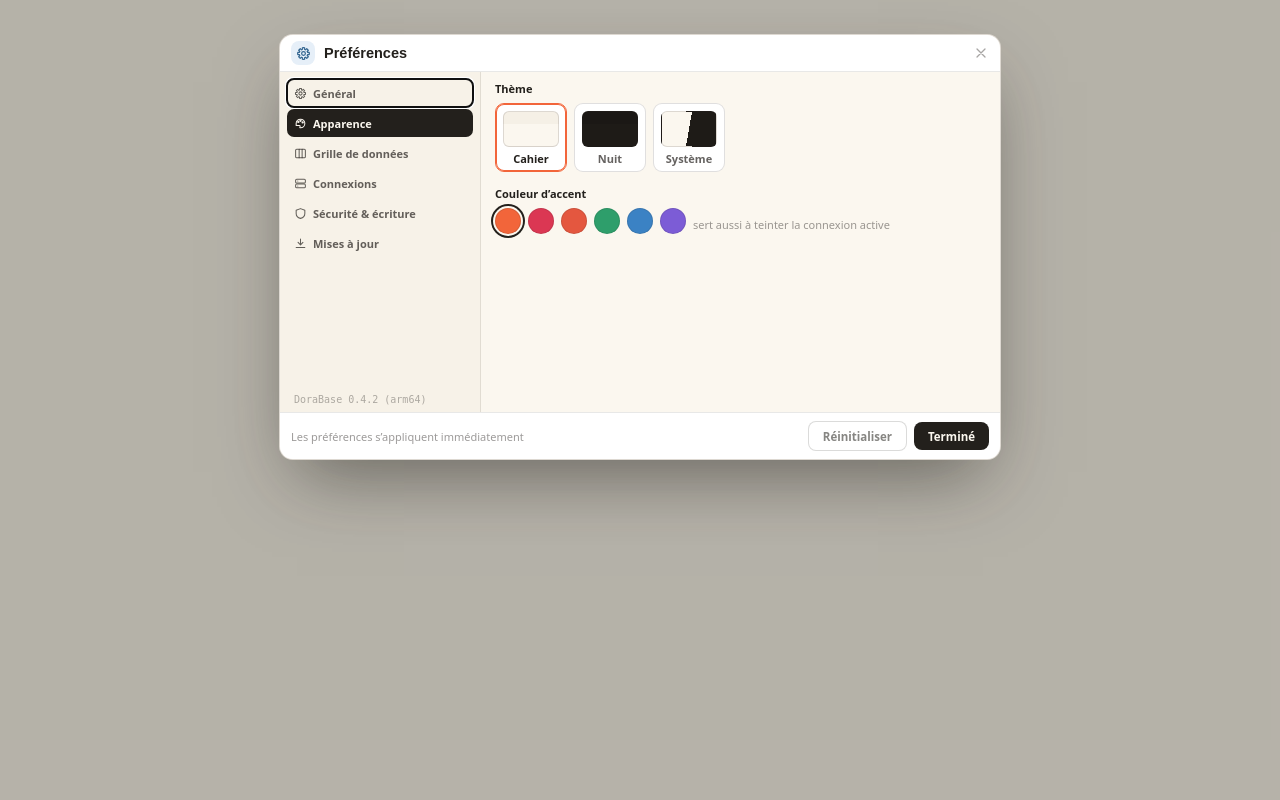
les garde-fous (`15d`) › les quatre apparaissent, et chacun dit ce qu’il protège
The width and height of the screenshot is (1280, 800).
Click the tab "Sécurité & écriture" at [380, 213], box x1=287 y1=199 x2=473 y2=227
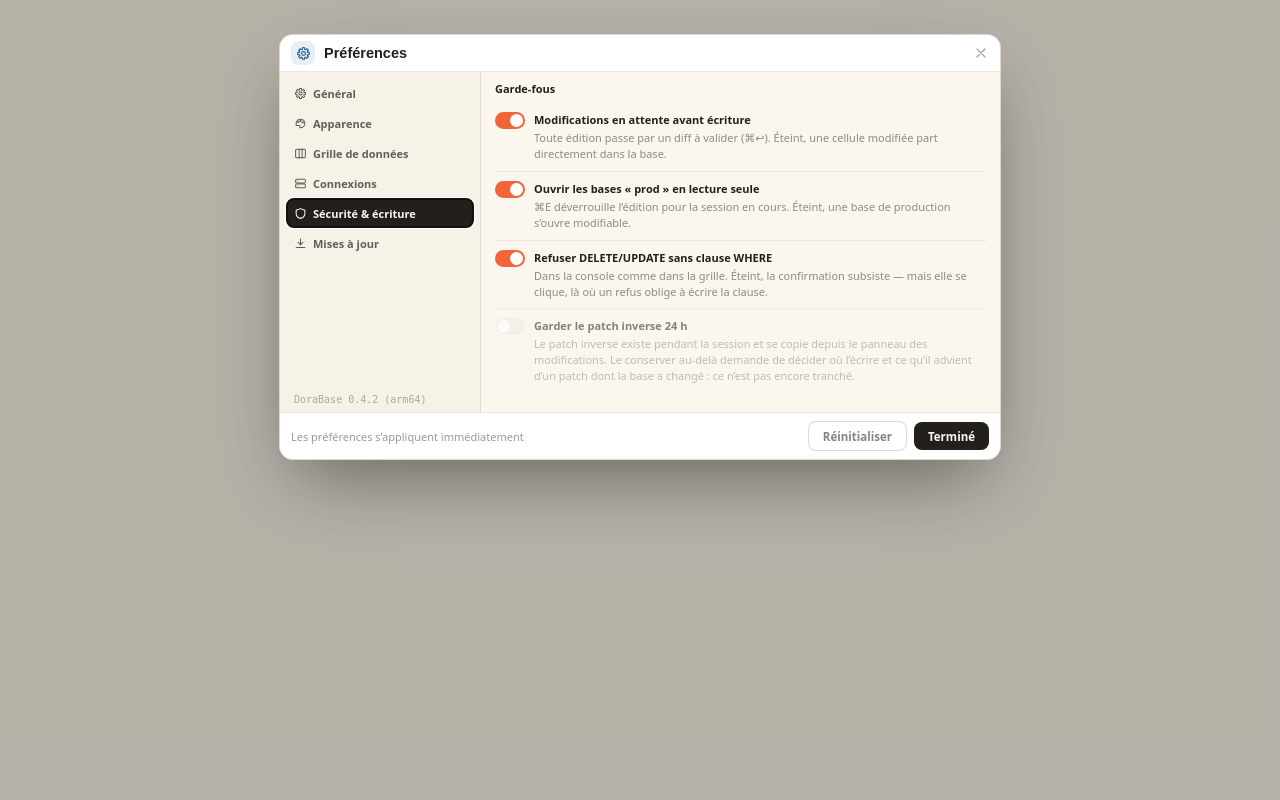
Now the text "part directement dans la base" is shown, box x1=534 y1=130 x2=938 y2=161
Now the text "s’ouvre modifiable" is shown, box x1=534 y1=199 x2=951 y2=230
